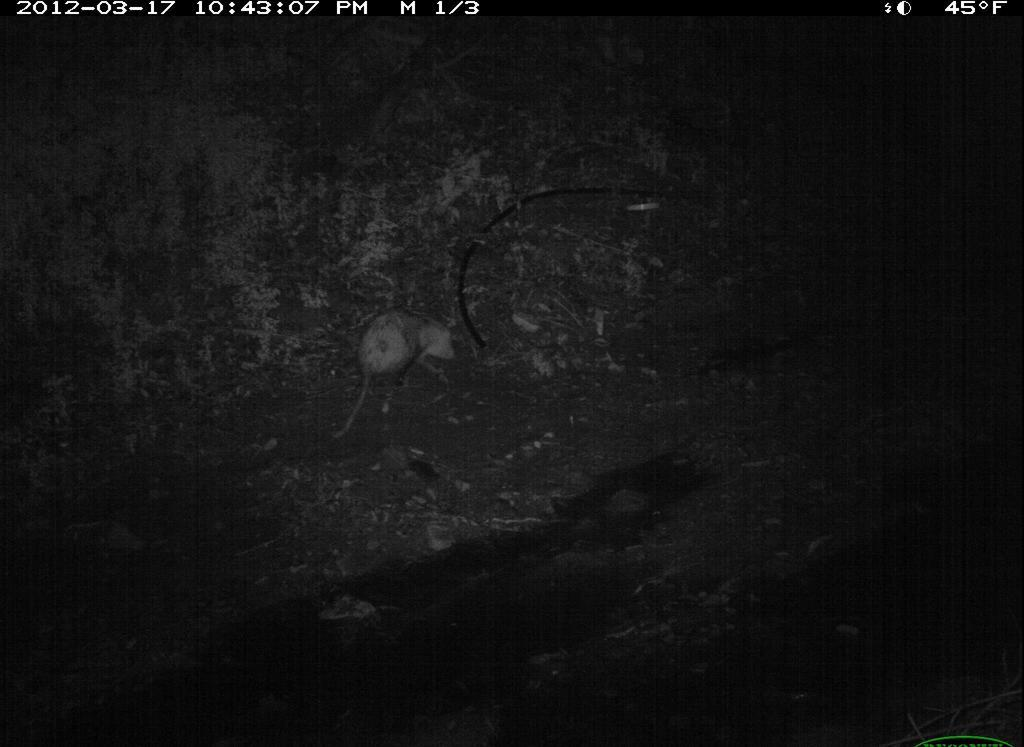opossum: (328, 303, 469, 438)
